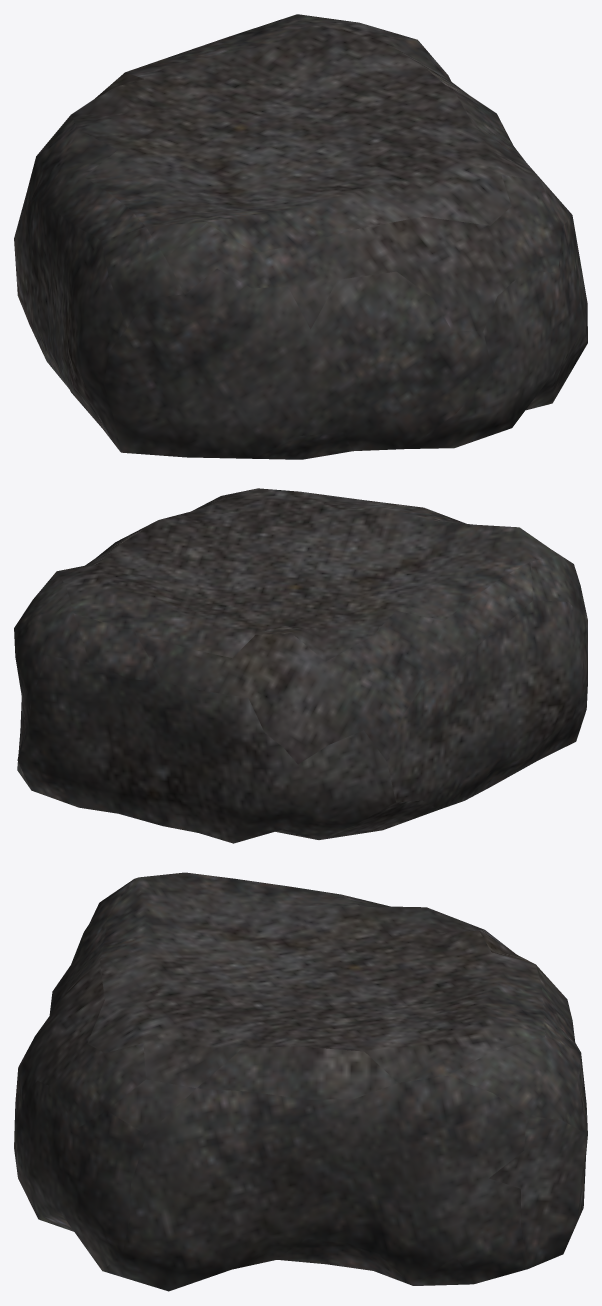
The model's file is rock 3.glb.
The picture shows the model from 3 angles, top to bottom: view 1: azimuth 30°, elevation 25°; view 2: azimuth 150°, elevation 25°; view 3: azimuth 270°, elevation 25°; orthographic projection. The views are drawn at different scales.
Visible parts, largest first — view 1: AR03; view 2: AR03; view 3: AR03.
Boxes of the visible parts, x1,y1,x2,y2 form: AR03: [14, 14, 587, 459]; AR03: [14, 488, 587, 843]; AR03: [14, 872, 587, 1291].
Size of the model in its own units: 15.45 by 7.3 by 15.88.
1 material, 1 textured.
